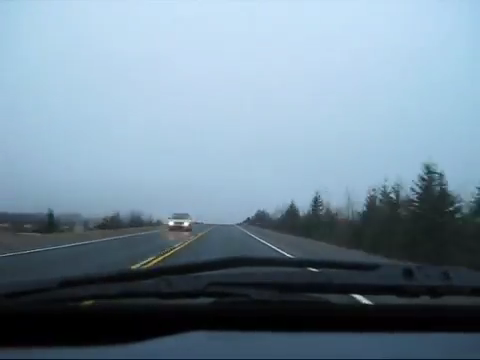car: (166, 211, 192, 231)
